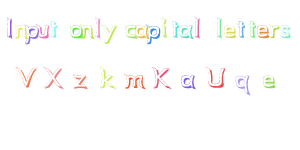I: (1, 12, 18, 43)
K: (147, 58, 177, 92)
U: (201, 60, 230, 94)
V: (12, 61, 39, 92)
X: (39, 61, 68, 93)
a: (175, 68, 201, 92), (178, 20, 194, 41), (134, 22, 150, 40)
c: (123, 19, 137, 40)
e: (257, 69, 281, 91), (256, 22, 269, 42), (223, 22, 237, 40)
i: (160, 15, 170, 39)
k: (93, 59, 121, 95)
l: (191, 11, 204, 39), (213, 13, 224, 40), (92, 15, 103, 39)
m: (120, 67, 150, 96)
n: (79, 21, 94, 42), (14, 21, 28, 40)
o: (68, 21, 85, 40)
p: (23, 21, 41, 49), (145, 21, 162, 47)
q: (232, 71, 257, 99)
r: (269, 23, 281, 42)
s: (280, 22, 294, 41)
t: (47, 16, 63, 39), (235, 17, 247, 40), (247, 17, 258, 41), (169, 18, 179, 39)
u: (34, 20, 51, 40)
y: (101, 23, 117, 45)
z: (69, 69, 93, 94)
